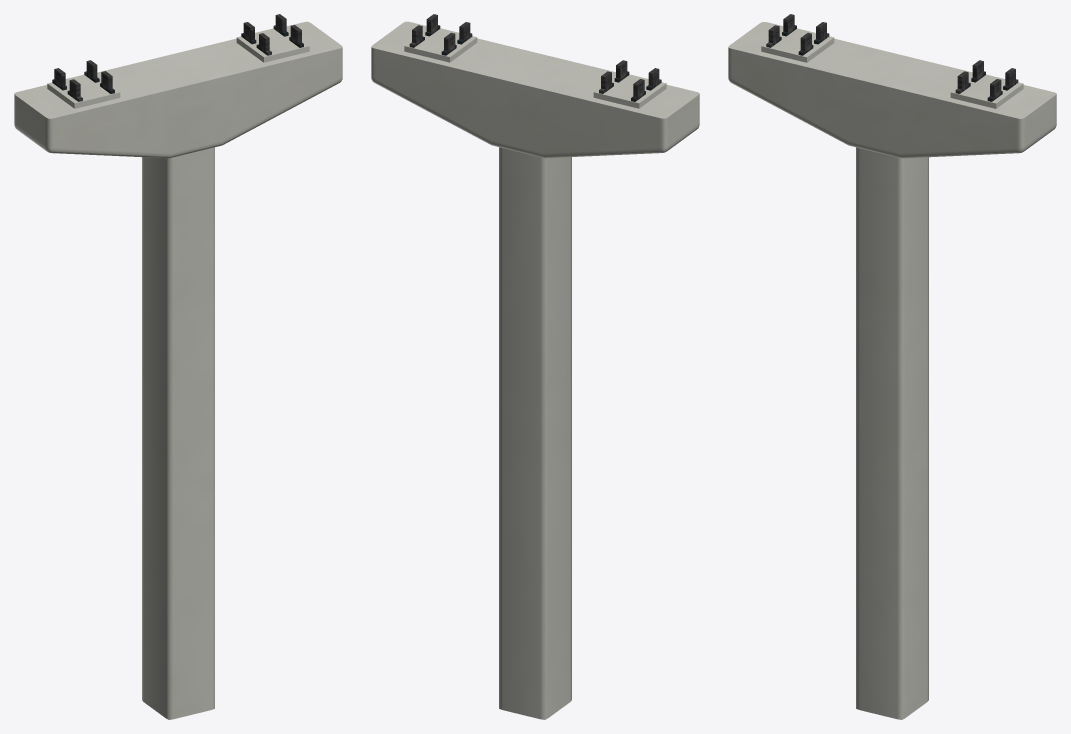
Rendered from danguizhu1.obj.
3 views of the same model, side by side, from view 1: azimuth 30°, elevation 25°; view 2: azimuth 150°, elevation 25°; view 3: azimuth 330°, elevation 25° (orthographic).
Visible parts, largest first — view 1: Mesh5 Group3 Model, Mesh10 Model; view 2: Mesh5 Group3 Model, Mesh10 Model; view 3: Mesh5 Group3 Model, Mesh10 Model.
Part boxes in pixels (x1,y1,x2,y2): Mesh5 Group3 Model: [142, 147, 214, 719]; Mesh10 Model: [14, 21, 342, 158]; Mesh5 Group3 Model: [499, 147, 571, 719]; Mesh10 Model: [371, 21, 699, 158]; Mesh5 Group3 Model: [856, 147, 928, 719]; Mesh10 Model: [728, 22, 1056, 158].
Bounding box in the file's own units: 6.25 × 13.24 × 1.32.
Materials: 2 (2 with a texture image).
